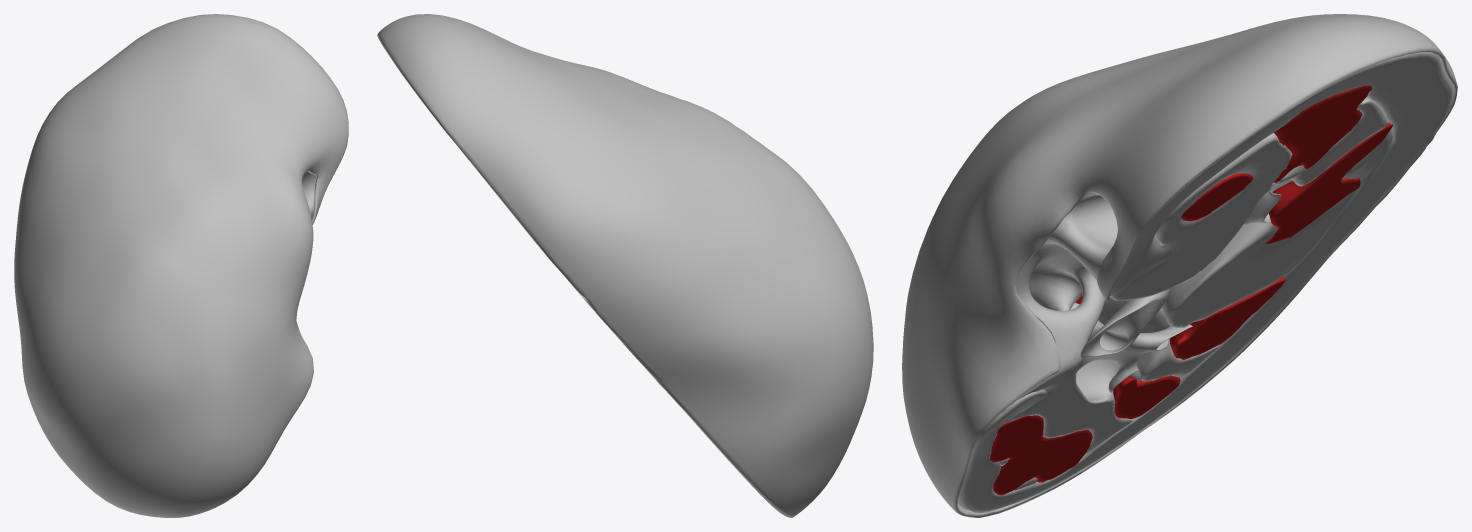
File: VHF_Kidney_R_Bisect_Anterior.fbx
3 views of the same model, side by side, from view 1: azimuth 30°, elevation 25°; view 2: azimuth 150°, elevation 25°; view 3: azimuth 270°, elevation 25° (orthographic). The views are drawn at different scales.
Visible parts, largest first — view 1: VHF_Kidney_R_Capsule_Anterior, VHF_Kidney_R_RenalColumns_Anterior; view 2: VHF_Kidney_R_Capsule_Anterior; view 3: VHF_Kidney_R_Capsule_Anterior, VHF_Kidney_R_RenalColumns_Anterior, VHF_Kidney_R_OuterCortex_Anterior, VHF_Kidney_R_Pyramids_Anterior, VHF_Kidney_R_Calyses_Anterior.
Part boxes in pixels (bbox=[...]): VHF_Kidney_R_Capsule_Anterior: bbox=[14, 14, 348, 517]; VHF_Kidney_R_RenalColumns_Anterior: bbox=[302, 171, 316, 218]; VHF_Kidney_R_Capsule_Anterior: bbox=[377, 14, 873, 517]; VHF_Kidney_R_Capsule_Anterior: bbox=[902, 14, 1457, 517]; VHF_Kidney_R_RenalColumns_Anterior: bbox=[999, 96, 1392, 491]; VHF_Kidney_R_OuterCortex_Anterior: bbox=[958, 52, 1451, 513]; VHF_Kidney_R_Pyramids_Anterior: bbox=[990, 85, 1393, 495]; VHF_Kidney_R_Calyses_Anterior: bbox=[1070, 190, 1281, 392].
Size of the model in its own units: 87.91 by 100 by 84.43.
